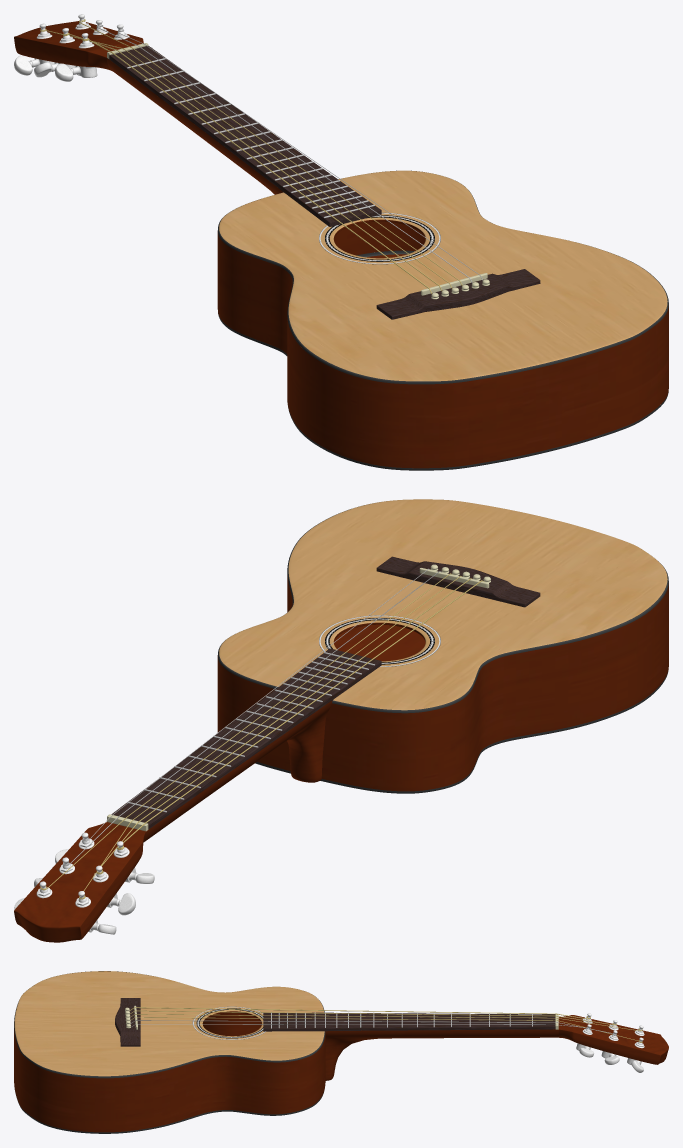
3 views of the same model, one above another, from view 1: azimuth 30°, elevation 25°; view 2: azimuth 150°, elevation 25°; view 3: azimuth 270°, elevation 25° (orthographic). The views are drawn at different scales.
Parts seen in each view (by area): view 1: body_2, neck_4, bridge_3, 1-2-3-4string_8, tuning.016_10, frets_6, 5-6string_7, pattern_9, bridge-pins-saddle-nut_5; view 2: body_2, neck_4, 1-2-3-4string_8, bridge_3, tuning.016_10, frets_6, 5-6string_7, pattern_9, bridge-pins-saddle-nut_5; view 3: body_2, neck_4, 1-2-3-4string_8, 5-6string_7, bridge_3, tuning.016_10, pattern_9, frets_6.
Boxes of the visible parts, x1,y1,x2,y2 form: body_2: (217, 170, 668, 470); neck_4: (14, 21, 381, 226); bridge_3: (376, 269, 540, 319); 1-2-3-4string_8: (40, 19, 462, 293); tuning.016_10: (14, 14, 152, 81); frets_6: (127, 58, 374, 217); 5-6string_7: (96, 25, 482, 283); pattern_9: (319, 212, 440, 264); bridge-pins-saddle-nut_5: (107, 43, 489, 299); body_2: (217, 499, 668, 793); neck_4: (14, 648, 381, 942); 1-2-3-4string_8: (40, 573, 484, 899); bridge_3: (376, 556, 540, 607); tuning.016_10: (14, 832, 154, 934); frets_6: (127, 652, 375, 812); 5-6string_7: (63, 568, 441, 865); pattern_9: (319, 615, 440, 666); bridge-pins-saddle-nut_5: (107, 564, 490, 831); body_2: (14, 971, 325, 1133); neck_4: (263, 1012, 668, 1080); 1-2-3-4string_8: (129, 1007, 642, 1042); 5-6string_7: (130, 1020, 616, 1035); bridge_3: (115, 998, 140, 1046); tuning.016_10: (576, 1013, 644, 1072); pattern_9: (192, 1006, 265, 1039); frets_6: (271, 1012, 532, 1028).
Bounding box in the file's own units: 1.91 × 0.5531 × 5.
13 materials, 13 textured.
